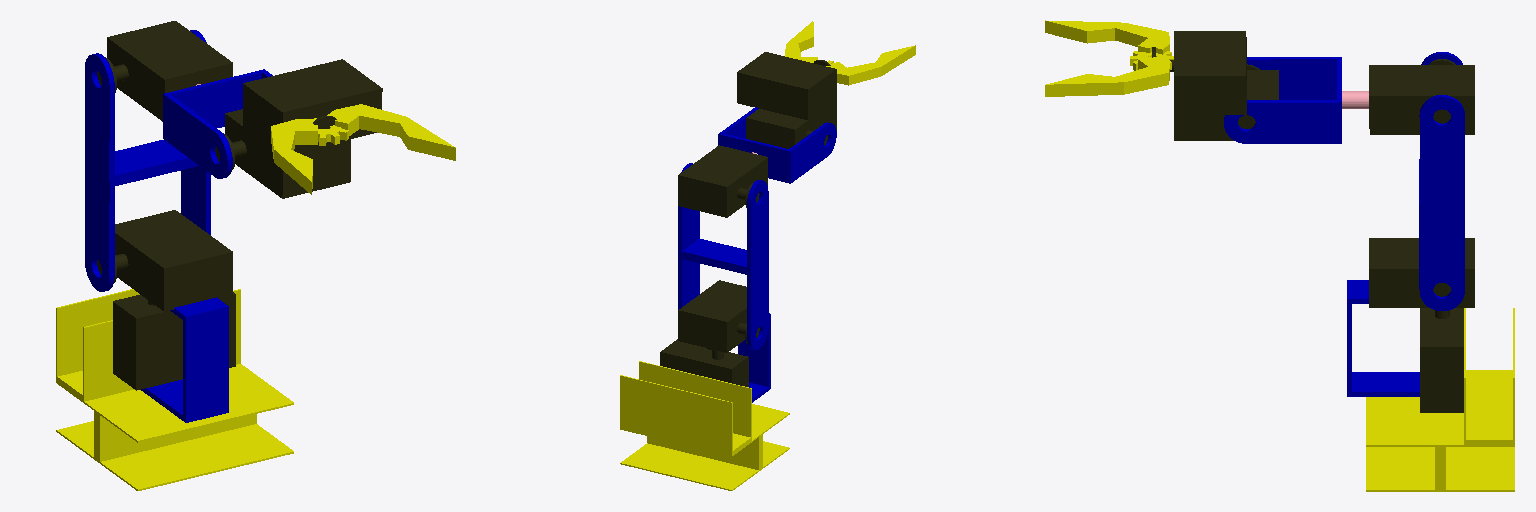
The robot description file, URDF, robot "rjje_arm":
<?xml version="1.0" ?>
<!-- =================================================================================== -->
<!-- |    This document was autogenerated by xacro from rjje_arm.xacro                 | -->
<!-- |    EDITING THIS FILE BY HAND IS NOT RECOMMENDED                                 | -->
<!-- =================================================================================== -->
<robot name="rjje_arm">
  <material name="blue">
    <color rgba="0 0 0.8 1"/>
  </material>
  <material name="pink">
    <color rgba="1.0 0.71 0.76 1.0"/>
  </material>
  <material name="yellow">
    <color rgba="0.93 0.93 0.02 1.0"/>
  </material>
  <material name="dark_green">
    <color rgba="0.2 0.2 0.1 1.0"/>
  </material>
  <!-- Instances -->
  <link name="world">
  </link>
  <link name="base_link">
    <inertial>
      <mass value="157.633"/>
      <origin rpy="0.0 0.0 0.0" xyz="0.0 0.0 0.0"/>
      <inertia ixx="13.235" ixy="0" ixz="0" iyy="13.235" iyz="0" izz="9.655"/>
    </inertial>
    <collision>
      <origin rpy="0.0 0.0 0.0" xyz="0.0 0.0 0.0"/>
      <geometry>
        <mesh filename="package://rjje_arm/meshes/base.stl" scale="1 1 1"/>
      </geometry>
    </collision>
    <visual>
      <origin rpy="0.0 0.0 0.0" xyz="0.0 0.0 0.0"/>
      <geometry>
        <mesh filename="package://rjje_arm/meshes/base.stl" scale="1 1 1"/>
      </geometry>
      <material name="yellow"/>
    </visual>
  </link>
  <joint name="world_base_link" type="fixed">
    <axis xyz="0 0 1"/>
    <limit effort="1000" lower="0" upper="0.5" velocity="0.5"/>
    <origin rpy="0 0 0" xyz="0 0 0.0"/>
    <parent link="world"/>
    <child link="base_link"/>
  </joint>
  <link name="link1">
    <inertial>
      <mass value="157.633"/>
      <origin rpy="0.0 0.0 0.0" xyz="0.0 0.0 0.0"/>
      <inertia ixx="13.235" ixy="0" ixz="0" iyy="13.235" iyz="0" izz="9.655"/>
    </inertial>
    <collision>
      <origin rpy="0.0 0.0 0.0" xyz="0.0 0.0 0.0"/>
      <geometry>
        <mesh filename="package://rjje_arm/meshes/motor_and_frame.stl" scale="1 1 1"/>
      </geometry>
    </collision>
    <visual>
      <origin rpy="0.0 0.0 0.0" xyz="0.0 0.0 0.0"/>
      <geometry>
        <mesh filename="package://rjje_arm/meshes/motor_and_frame.stl" scale="1 1 1"/>
      </geometry>
      <material name="dark_green"/>
    </visual>
  </link>
  <joint name="base_link_link1" type="fixed">
    <axis xyz="0 0 1"/>
    <limit effort="1000" lower="0" upper="0.5" velocity="0.5"/>
    <origin rpy="0 0 0" xyz="3.45 4.2 4.0"/>
    <parent link="base_link"/>
    <child link="link1"/>
  </joint>
  <link name="bracket_1">
    <inertial>
      <mass value="157.633"/>
      <origin rpy="0.0 0.0 3.14" xyz="0.0 0.0 0.0"/>
      <inertia ixx="13.235" ixy="0" ixz="0" iyy="13.235" iyz="0" izz="9.655"/>
    </inertial>
    <collision>
      <origin rpy="0.0 0.0 3.14" xyz="0.0 0.0 0.0"/>
      <geometry>
        <mesh filename="package://rjje_arm/meshes/thin_bracket.stl" scale="1 1 1"/>
      </geometry>
    </collision>
    <visual>
      <origin rpy="0.0 0.0 3.14" xyz="0.0 0.0 0.0"/>
      <geometry>
        <mesh filename="package://rjje_arm/meshes/thin_bracket.stl" scale="1 1 1"/>
      </geometry>
      <material name="blue"/>
    </visual>
  </link>
  <joint name="link1_bracket_1" type="revolute">
    <axis xyz="0 0 1"/>
    <limit effort="1000" lower="-1.57" upper="1.57" velocity="0.5"/>
    <origin rpy="0 0 0" xyz="0 0 5.3"/>
    <parent link="link1"/>
    <child link="bracket_1"/>
  </joint>
  <link name="link_2">
    <inertial>
      <mass value="157.633"/>
      <origin rpy="0.0 0.0 0.0" xyz="0.0 0.0 0.0"/>
      <inertia ixx="13.235" ixy="0" ixz="0" iyy="13.235" iyz="0" izz="9.655"/>
    </inertial>
    <collision>
      <origin rpy="0.0 0.0 0.0" xyz="0.0 0.0 0.0"/>
      <geometry>
        <mesh filename="package://rjje_arm/meshes/motor_and_frame.stl" scale="1 1 1"/>
      </geometry>
    </collision>
    <visual>
      <origin rpy="0.0 0.0 0.0" xyz="0.0 0.0 0.0"/>
      <geometry>
        <mesh filename="package://rjje_arm/meshes/motor_and_frame.stl" scale="1 1 1"/>
      </geometry>
      <material name="dark_green"/>
    </visual>
  </link>
  <joint name="bracket_1_link_2" type="fixed">
    <axis xyz="0 0 1"/>
    <limit effort="1000" lower="-1.57" upper="1.57" velocity="0.5"/>
    <origin rpy="1.57 0.0 -1.57" xyz="2.2 0.0 1.4"/>
    <parent link="bracket_1"/>
    <child link="link_2"/>
  </joint>
  <link name="bracket_2_1">
    <inertial>
      <mass value="157.633"/>
      <origin rpy="0.0 0.0 0.0" xyz="0.0 0.0 0.0"/>
      <inertia ixx="13.235" ixy="0" ixz="0" iyy="13.235" iyz="0" izz="9.655"/>
    </inertial>
    <collision>
      <origin rpy="0.0 0.0 0.0" xyz="0.0 0.0 0.0"/>
      <geometry>
        <mesh filename="package://rjje_arm/meshes/thin_bracket.stl" scale="1 1 1"/>
      </geometry>
    </collision>
    <visual>
      <origin rpy="0.0 0.0 0.0" xyz="0.0 0.0 0.0"/>
      <geometry>
        <mesh filename="package://rjje_arm/meshes/thin_bracket.stl" scale="1 1 1"/>
      </geometry>
      <material name="blue"/>
    </visual>
  </link>
  <joint name="link_2_bracket_2_1" type="revolute">
    <axis xyz="0 0 1"/>
    <limit effort="1000" lower="-1.57" upper="1.57" velocity="0.5"/>
    <origin rpy="0.0 0.0 0.0" xyz="0.0 0.0 5.3"/>
    <parent link="link_2"/>
    <child link="bracket_2_1"/>
  </joint>
  <link name="bracket_2_2">
    <inertial>
      <mass value="157.633"/>
      <origin rpy="0.0 0.0 0.0" xyz="0.0 0.0 0.0"/>
      <inertia ixx="13.235" ixy="0" ixz="0" iyy="13.235" iyz="0" izz="9.655"/>
    </inertial>
    <collision>
      <origin rpy="0.0 0.0 0.0" xyz="0.0 0.0 0.0"/>
      <geometry>
        <mesh filename="package://rjje_arm/meshes/thin_bracket.stl" scale="1 1 1"/>
      </geometry>
    </collision>
    <visual>
      <origin rpy="0.0 0.0 0.0" xyz="0.0 0.0 0.0"/>
      <geometry>
        <mesh filename="package://rjje_arm/meshes/thin_bracket.stl" scale="1 1 1"/>
      </geometry>
      <material name="blue"/>
    </visual>
  </link>
  <joint name="bracket_2_1_bracket_2_2" type="fixed">
    <axis xyz="0 0 1"/>
    <limit effort="1000" lower="-1.57" upper="1.57" velocity="0.5"/>
    <origin rpy="0.0 0.0 3.14" xyz="0.0 10.5 0.0"/>
    <parent link="bracket_2_1"/>
    <child link="bracket_2_2"/>
  </joint>
  <link name="link_3">
    <inertial>
      <mass value="157.633"/>
      <origin rpy="0.0 0.0 0.0" xyz="0.0 0.0 0.0"/>
      <inertia ixx="13.235" ixy="0" ixz="0" iyy="13.235" iyz="0" izz="9.655"/>
    </inertial>
    <collision>
      <origin rpy="0.0 0.0 0.0" xyz="0.0 0.0 0.0"/>
      <geometry>
        <mesh filename="package://rjje_arm/meshes/motor_and_frame.stl" scale="1 1 1"/>
      </geometry>
    </collision>
    <visual>
      <origin rpy="0.0 0.0 0.0" xyz="0.0 0.0 0.0"/>
      <geometry>
        <mesh filename="package://rjje_arm/meshes/motor_and_frame.stl" scale="1 1 1"/>
      </geometry>
      <material name="dark_green"/>
    </visual>
  </link>
  <joint name="bracket_2_2_link_3" type="revolute">
    <axis xyz="0 0 1"/>
    <limit effort="1000" lower="-1.57" upper="1.57" velocity="0.5"/>
    <origin rpy="0.0 0.0 3.14" xyz="0.0 0.0 -5.3"/>
    <parent link="bracket_2_2"/>
    <child link="link_3"/>
  </joint>
  <link name="bracket_3_1">
    <visual>
      <origin rpy="0.0 0.0 0.0" xyz="0.0 0.0 0.75"/>
      <geometry>
        <cylinder length="1.5" radius="0.5"/>
      </geometry>
      <material name="pink"/>
    </visual>
    <collision>
      <origin rpy="0.0 0.0 0.0" xyz="0.0 0.0 0.75"/>
      <geometry>
        <cylinder length="1.5" radius="0.5"/>
      </geometry>
    </collision>
    <inertial>
      <mass value="0.1"/>
      <inertia ixx="0.03" ixy="0.0" ixz="0.0" iyy="0.03" iyz="0.0" izz="0.03"/>
    </inertial>
  </link>
  <joint name="link_3_bracket_3_1" type="fixed">
    <axis xyz="0 0 1"/>
    <limit effort="1000" lower="-1.57" upper="1.57" velocity="0.5"/>
    <origin rpy="0.0 1.57 0.0" xyz="4.0 0.0 2.0"/>
    <parent link="link_3"/>
    <child link="bracket_3_1"/>
  </joint>
  <link name="bracket_3_2">
    <inertial>
      <mass value="157.633"/>
      <origin rpy="0.0 0.0 0.0" xyz="0.0 0.0 0.0"/>
      <inertia ixx="13.235" ixy="0" ixz="0" iyy="13.235" iyz="0" izz="9.655"/>
    </inertial>
    <collision>
      <origin rpy="0.0 0.0 0.0" xyz="0.0 0.0 0.0"/>
      <geometry>
        <mesh filename="package://rjje_arm/meshes/thin_bracket.stl" scale="1 1 1"/>
      </geometry>
    </collision>
    <visual>
      <origin rpy="0.0 0.0 0.0" xyz="0.0 0.0 0.0"/>
      <geometry>
        <mesh filename="package://rjje_arm/meshes/thin_bracket.stl" scale="1 1 1"/>
      </geometry>
      <material name="blue"/>
    </visual>
  </link>
  <joint name="bracket_3_1_bracket_3_2" type="fixed">
    <axis xyz="0 0 1"/>
    <limit effort="1000" lower="-1.57" upper="1.57" velocity="0.5"/>
    <origin rpy="-1.57 0.0 1.57" xyz="-2.65 0.0 6.75"/>
    <parent link="bracket_3_1"/>
    <child link="bracket_3_2"/>
  </joint>
  <link name="link_4">
    <inertial>
      <mass value="157.633"/>
      <origin rpy="0.0 0.0 0.0" xyz="0.0 0.0 0.0"/>
      <inertia ixx="13.235" ixy="0" ixz="0" iyy="13.235" iyz="0" izz="9.655"/>
    </inertial>
    <collision>
      <origin rpy="0.0 0.0 0.0" xyz="0.0 0.0 0.0"/>
      <geometry>
        <mesh filename="package://rjje_arm/meshes/motor_and_frame.stl" scale="1 1 1"/>
      </geometry>
    </collision>
    <visual>
      <origin rpy="0.0 0.0 0.0" xyz="0.0 0.0 0.0"/>
      <geometry>
        <mesh filename="package://rjje_arm/meshes/motor_and_frame.stl" scale="1 1 1"/>
      </geometry>
      <material name="dark_green"/>
    </visual>
  </link>
  <joint name="bracket_3_2_link_4" type="revolute">
    <axis xyz="0 0 1"/>
    <limit effort="1000" lower="-1.57" upper="0.43" velocity="0.5"/>
    <origin rpy="0.0 0.0 -1.57" xyz="0.0 0.0 -5.3"/>
    <parent link="bracket_3_2"/>
    <child link="link_4"/>
  </joint>
  <link name="link_5">
    <inertial>
      <mass value="157.633"/>
      <origin rpy="0.0 0.0 0.0" xyz="0.0 0.0 0.0"/>
      <inertia ixx="13.235" ixy="0" ixz="0" iyy="13.235" iyz="0" izz="9.655"/>
    </inertial>
    <collision>
      <origin rpy="0.0 0.0 0.0" xyz="0.0 0.0 0.0"/>
      <geometry>
        <mesh filename="package://rjje_arm/meshes/motor_and_frame.stl" scale="1 1 1"/>
      </geometry>
    </collision>
    <visual>
      <origin rpy="0.0 0.0 0.0" xyz="0.0 0.0 0.0"/>
      <geometry>
        <mesh filename="package://rjje_arm/meshes/motor_and_frame.stl" scale="1 1 1"/>
      </geometry>
      <material name="dark_green"/>
    </visual>
  </link>
  <joint name="link_4_link_5" type="fixed">
    <axis xyz="0 0 1"/>
    <limit effort="1000" lower="-1.57" upper="1.57" velocity="0.5"/>
    <origin rpy="0.0 1.57 0.0" xyz="0.0 2.4 2.2"/>
    <parent link="link_4"/>
    <child link="link_5"/>
  </joint>
  <link name="left_gripper">
    <inertial>
      <mass value="157.633"/>
      <origin rpy="0.0 0.0 0.0" xyz="0.0 0.0 0.0"/>
      <inertia ixx="13.235" ixy="0" ixz="0" iyy="13.235" iyz="0" izz="9.655"/>
    </inertial>
    <collision>
      <origin rpy="0.0 0.0 0.0" xyz="0.0 0.0 0.0"/>
      <geometry>
        <mesh filename="package://rjje_arm/meshes/left_gripper.stl" scale="1 1 1"/>
      </geometry>
    </collision>
    <visual>
      <origin rpy="0.0 0.0 0.0" xyz="0.0 0.0 0.0"/>
      <geometry>
        <mesh filename="package://rjje_arm/meshes/left_gripper.stl" scale="1 1 1"/>
      </geometry>
      <material name="yellow"/>
    </visual>
  </link>
  <joint name="link_5_left_gripper" type="revolute">
    <axis xyz="0 1 0"/>
    <limit effort="1000" lower="-0.61" upper="0.0" velocity="0.5"/>
    <origin rpy="0.0 0.0 0.0" xyz="0.0 0.0 5.2"/>
    <parent link="link_5"/>
    <child link="left_gripper"/>
  </joint>
  <link name="right_gripper">
    <inertial>
      <mass value="157.633"/>
      <origin rpy="0.0 0.0 0.0" xyz="0.0 0.0 0.0"/>
      <inertia ixx="13.235" ixy="0" ixz="0" iyy="13.235" iyz="0" izz="9.655"/>
    </inertial>
    <collision>
      <origin rpy="0.0 0.0 0.0" xyz="0.0 0.0 0.0"/>
      <geometry>
        <mesh filename="package://rjje_arm/meshes/right_gripper.stl" scale="1 1 1"/>
      </geometry>
    </collision>
    <visual>
      <origin rpy="0.0 0.0 0.0" xyz="0.0 0.0 0.0"/>
      <geometry>
        <mesh filename="package://rjje_arm/meshes/right_gripper.stl" scale="1 1 1"/>
      </geometry>
      <material name="yellow"/>
    </visual>
  </link>
  <joint name="link_5_right_gripper" type="revolute">
    <axis xyz="0 1 0"/>
    <limit effort="1000" lower="0.61" upper="0.0" velocity="0.5"/>
    <origin rpy="0.0 0.0 0.0" xyz="0.0 0.0 5.2"/>
    <parent link="link_5"/>
    <child link="right_gripper"/>
    <mimic joint="link_5_left_gripper" multiplier="-1" offset="0"/>
  </joint>
</robot>

--- What the picture shows (computed from the rendered views, not written in the file) ---
The picture shows the robot from 3 angles, left to right: view 1: azimuth 30°, elevation 25°; view 2: azimuth 150°, elevation 25°; view 3: azimuth 270°, elevation 25°; orthographic projection.
Model rjje_arm with 14 links and 13 joints (6 revolute, 7 fixed), rooted at world, posed every joint at zero.
Visible links, largest first — view 1: base_link, link_2, link_3, link_5, bracket_1, link1, bracket_3_2, bracket_2_1, bracket_2_2, link_4, left_gripper, right_gripper; view 2: base_link, link_5, link_3, link_2, bracket_2_2, bracket_3_2, bracket_2_1, link1, link_4, right_gripper, bracket_1, left_gripper; view 3: base_link, bracket_3_2, link_5, link_3, bracket_2_2, bracket_2_1, link1, link_2, left_gripper, bracket_1, right_gripper, link_4.
Boxes of the visible links, x1,y1,x2,y2 form: base_link: (56, 289, 293, 490); link_2: (97, 210, 232, 311); link_3: (97, 21, 232, 121); link_5: (243, 59, 382, 153); bracket_1: (141, 297, 228, 422); link1: (113, 292, 235, 390); bracket_3_2: (163, 69, 272, 178); bracket_2_1: (85, 162, 210, 291); bracket_2_2: (85, 30, 206, 181); link_4: (215, 109, 350, 198); left_gripper: (314, 104, 455, 160); right_gripper: (271, 119, 348, 194); base_link: (620, 361, 789, 490); link_5: (737, 52, 836, 119); link_3: (678, 145, 767, 217); link_2: (678, 280, 759, 352); bracket_2_2: (678, 163, 768, 271); bracket_3_2: (718, 107, 836, 183); bracket_2_1: (678, 254, 768, 349); link1: (660, 339, 748, 386); link_4: (746, 100, 836, 148); right_gripper: (826, 45, 915, 85); bracket_1: (738, 313, 770, 402); left_gripper: (785, 21, 833, 63); base_link: (1366, 308, 1514, 491); bracket_3_2: (1224, 57, 1341, 143); link_5: (1152, 31, 1246, 114); link_3: (1369, 59, 1474, 134); bracket_2_2: (1419, 52, 1464, 203); bracket_2_1: (1419, 159, 1464, 310); link1: (1420, 308, 1463, 412); link_2: (1369, 238, 1474, 307); left_gripper: (1045, 51, 1173, 96); bracket_1: (1347, 280, 1419, 396); right_gripper: (1045, 20, 1173, 70); link_4: (1174, 64, 1278, 140).
Size in the robot's own frame: 9.15 by 25.83 by 24.77 metres.
12 mesh visuals loaded from 5 distinct referenced files (5 ASCII STL).
